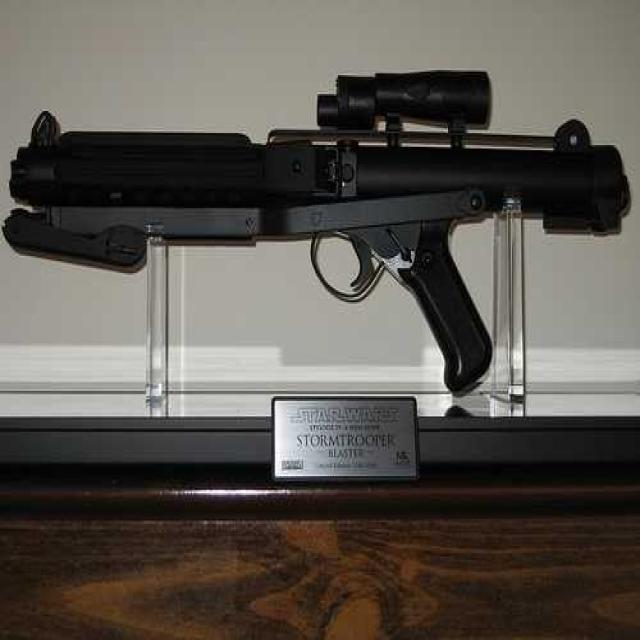heavyweapon: (1, 10, 636, 394)
